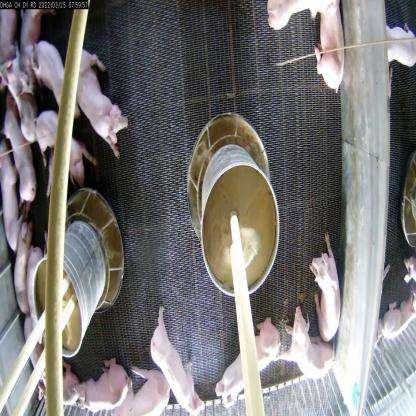Pig: (146, 291, 207, 415), (74, 40, 134, 165), (214, 310, 286, 410), (270, 300, 336, 382), (29, 37, 84, 123), (306, 229, 345, 348), (108, 361, 174, 416), (0, 133, 27, 265), (310, 0, 348, 93), (70, 354, 130, 410), (378, 277, 416, 359)
